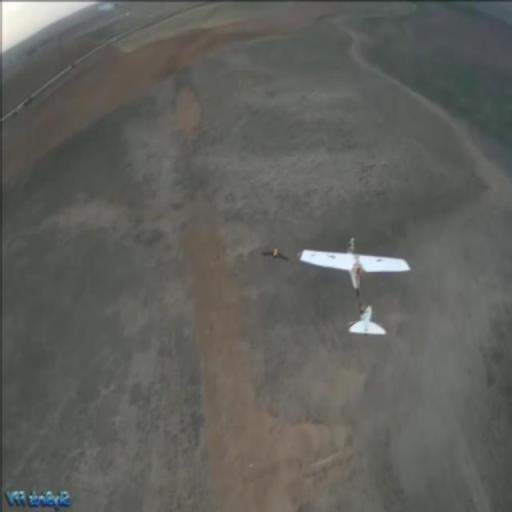uav: (294, 243, 410, 332), (260, 246, 289, 262)
